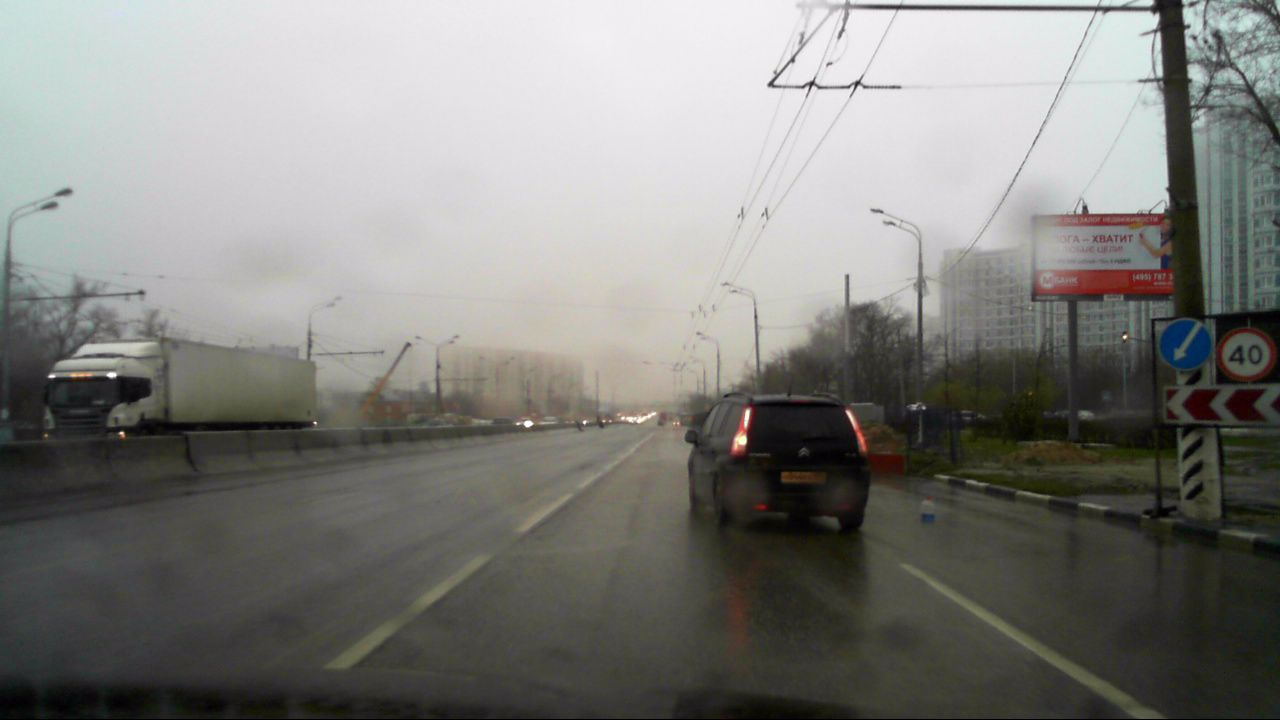speed_warning_40: (1216, 327, 1275, 383)
